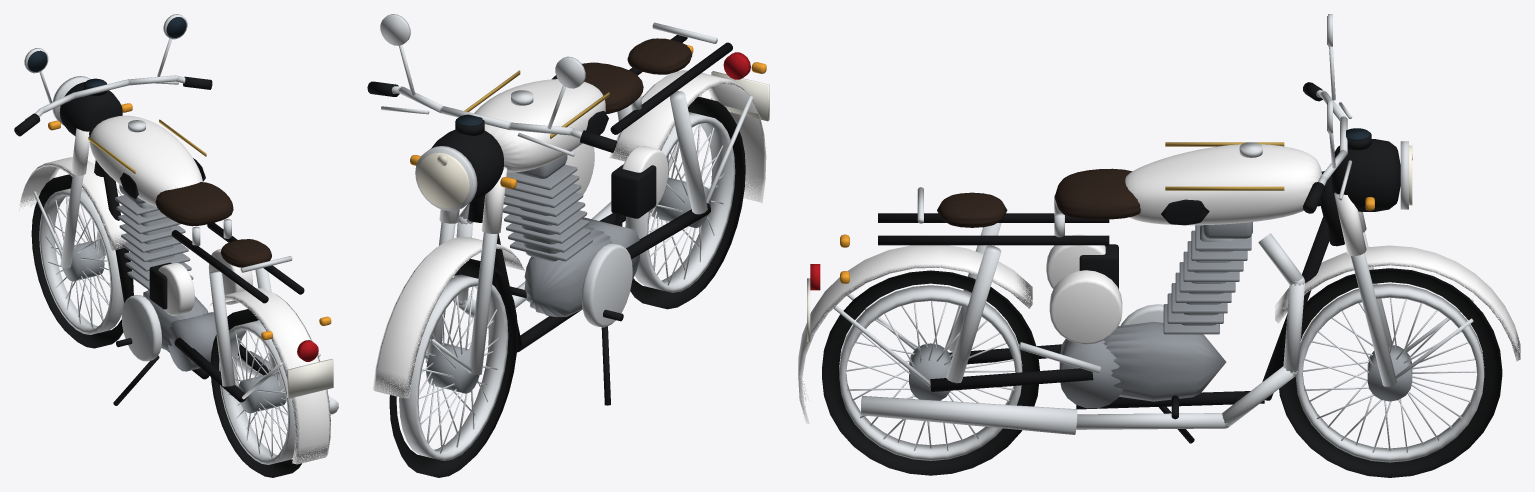
File: motorbike.glb
The picture shows the model from 3 angles, left to right: view 1: azimuth 30°, elevation 25°; view 2: azimuth 150°, elevation 25°; view 3: azimuth 270°, elevation 25°; orthographic projection. The views are drawn at different scales.
Visible parts, largest first — view 1: motorbike_tank, motorbike_guard_r, motorbike_wheel_f_rimring, motorbike_wheel_r_rimring, motorbike_guard_f, motorbike_saddle, motorbike_wheel_f_tyre, motorbike_primary, motorbike_wheel_r_tyre, motorbike_nacelle, motorbike_gearbox, motorbike_shock_-1 (+28 smaller); view 2: motorbike_guard_f, motorbike_tank, motorbike_wheel_f_rimring, motorbike_guard_r, motorbike_wheel_r_rimring, motorbike_wheel_r_tyre, motorbike_crankcase, motorbike_wheel_f_tyre, motorbike_primary, motorbike_nacelle, motorbike_lens, motorbike_battery (+37 smaller); view 3: motorbike_tank, motorbike_wheel_f_tyre, motorbike_wheel_r_tyre, motorbike_crankcase, motorbike_wheel_f_rimring, motorbike_wheel_r_rimring, motorbike_guard_r, motorbike_silencer, motorbike_guard_f, motorbike_toolbox, motorbike_nacelle, motorbike_saddle (+23 smaller).
Part boxes in pixels (x1,y1,x2,y2): motorbike_tank: (90, 115, 202, 206); motorbike_guard_r: (206, 288, 330, 464); motorbike_wheel_f_rimring: (39, 188, 123, 334); motorbike_wheel_r_rimring: (219, 321, 294, 464); motorbike_guard_f: (18, 157, 128, 250); motorbike_saddle: (155, 182, 233, 226); motorbike_wheel_f_tyre: (31, 174, 133, 348); motorbike_primary: (121, 295, 161, 361); motorbike_wheel_r_tyre: (210, 309, 301, 477); motorbike_nacelle: (59, 82, 122, 142); motorbike_gearbox: (168, 312, 216, 371); motorbike_shock_-1: (209, 271, 235, 386); motorbike_guard_f: (372, 236, 524, 398); motorbike_tank: (474, 79, 605, 172); motorbike_wheel_f_rimring: (399, 275, 508, 460); motorbike_guard_r: (609, 70, 766, 203); motorbike_wheel_r_rimring: (625, 112, 735, 292); motorbike_wheel_r_tyre: (615, 96, 745, 309); motorbike_crankcase: (524, 227, 611, 317); motorbike_wheel_f_tyre: (389, 258, 517, 477); motorbike_primary: (581, 243, 632, 327); motorbike_nacelle: (431, 130, 503, 202); motorbike_lens: (417, 152, 469, 208); motorbike_battery: (611, 164, 656, 218); motorbike_tank: (1125, 144, 1321, 225); motorbike_wheel_f_tyre: (1279, 268, 1502, 477); motorbike_wheel_r_tyre: (822, 270, 1039, 475); motorbike_crankcase: (1103, 322, 1226, 401); motorbike_wheel_f_rimring: (1295, 283, 1484, 462); motorbike_wheel_r_rimring: (839, 285, 1022, 460); motorbike_guard_r: (798, 245, 1032, 423); motorbike_silencer: (860, 396, 1077, 434); motorbike_guard_f: (1275, 245, 1520, 361); motorbike_toolbox: (1049, 270, 1122, 344); motorbike_nacelle: (1331, 139, 1400, 211); motorbike_saddle: (1054, 168, 1140, 219).
Bounding box in the file's own units: 0.874 × 1.39 × 2.19.
